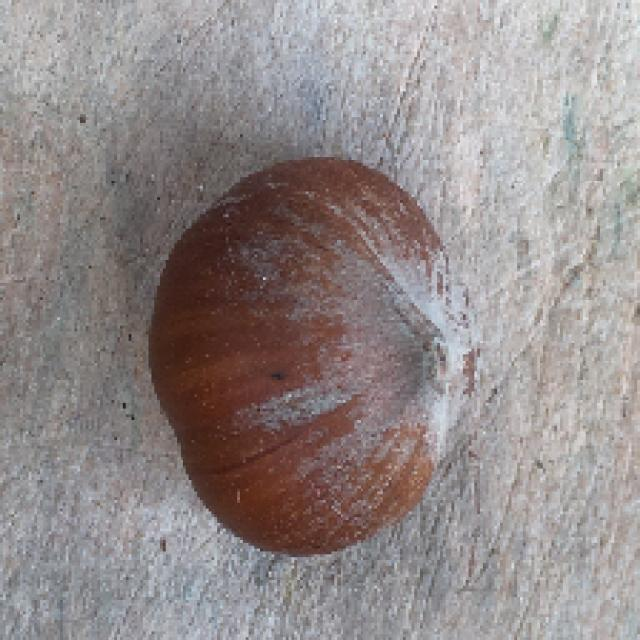qualityHazelnut: (149, 139, 493, 561)
